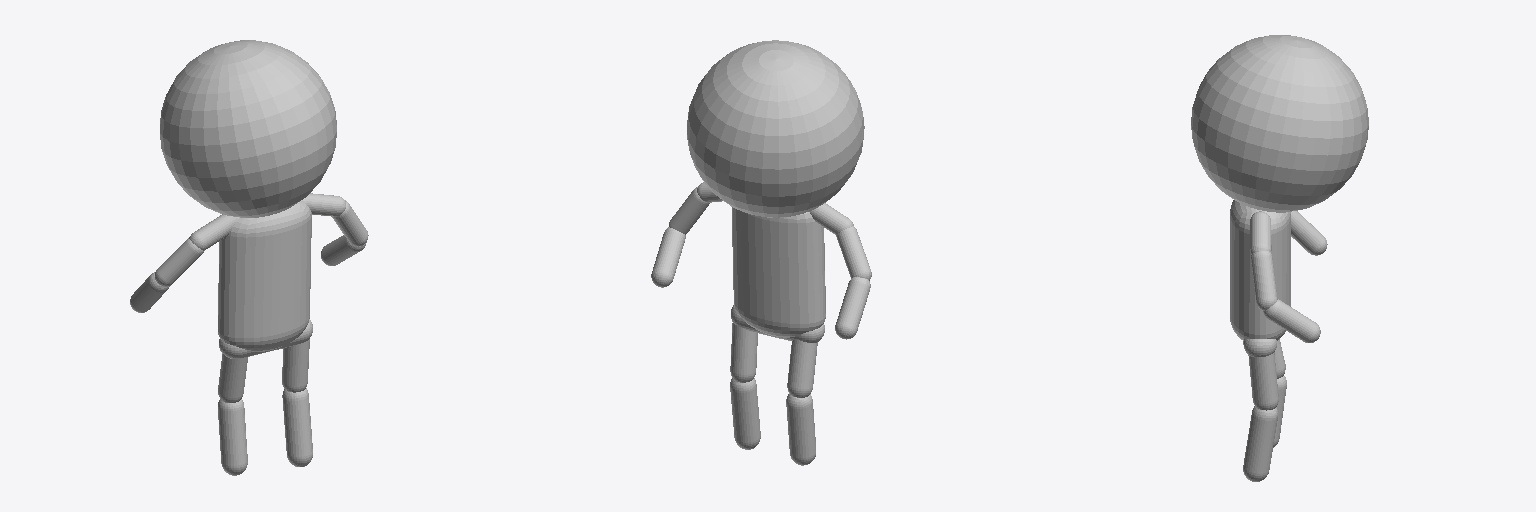
Rendered from Stickman_000058.obj.
3 renders of one model, left to right at view 1: azimuth 30°, elevation 25°; view 2: azimuth 150°, elevation 25°; view 3: azimuth 270°, elevation 25°, orthographic.
Parts seen in each view (by area): view 1: Head_Sphere.001, Body_Roundcube.002, LowerLegLeft_Roundcube.013, LowerLegRight_Roundcube.011, UpperLegLeft_Roundcube.012, UpperLegRight_Roundcube.010, UpperArmRight_Roundcube.015, ShoulderRight_Roundcube.014, UpperArmLeft_Roundcube.018, LowerArmRight_Roundcube.016, ShoulderLeft_Roundcube.017, LowerArmLeft_Roundcube.019 (+1 smaller); view 2: Head_Sphere.001, Body_Roundcube.002, LowerLegRight_Roundcube.011, LowerLegLeft_Roundcube.013, UpperLegRight_Roundcube.010, LowerArmRight_Roundcube.016, UpperLegLeft_Roundcube.012, LowerArmLeft_Roundcube.019, UpperArmRight_Roundcube.015, UpperArmLeft_Roundcube.018, ShoulderRight_Roundcube.014, Hip_Roundcube.005; view 3: Head_Sphere.001, Body_Roundcube.002, LowerLegLeft_Roundcube.013, UpperLegLeft_Roundcube.012, LowerArmLeft_Roundcube.019, UpperArmLeft_Roundcube.018, LowerArmRight_Roundcube.016, ShoulderLeft_Roundcube.017, Hip_Roundcube.005.
Boxes of the visible parts, x1=… form: Head_Sphere.001: x1=160, y1=40, x2=336, y2=217; Body_Roundcube.002: x1=218, y1=201, x2=311, y2=351; LowerLegLeft_Roundcube.013: x1=282, y1=388, x2=312, y2=466; LowerLegRight_Roundcube.011: x1=218, y1=399, x2=247, y2=475; UpperLegLeft_Roundcube.012: x1=282, y1=339, x2=309, y2=392; UpperLegRight_Roundcube.010: x1=218, y1=354, x2=247, y2=402; UpperArmRight_Roundcube.015: x1=155, y1=238, x2=203, y2=286; ShoulderRight_Roundcube.014: x1=189, y1=214, x2=238, y2=250; UpperArmLeft_Roundcube.018: x1=332, y1=200, x2=368, y2=246; LowerArmRight_Roundcube.016: x1=130, y1=272, x2=169, y2=312; ShoulderLeft_Roundcube.017: x1=301, y1=193, x2=345, y2=216; LowerArmLeft_Roundcube.019: x1=321, y1=235, x2=366, y2=265; Head_Sphere.001: x1=687, y1=40, x2=864, y2=217; Body_Roundcube.002: x1=732, y1=207, x2=825, y2=337; LowerLegRight_Roundcube.011: x1=786, y1=394, x2=815, y2=465; LowerLegLeft_Roundcube.013: x1=730, y1=378, x2=760, y2=449; UpperLegRight_Roundcube.010: x1=787, y1=340, x2=817, y2=397; LowerArmRight_Roundcube.016: x1=835, y1=277, x2=870, y2=339; UpperLegLeft_Roundcube.012: x1=730, y1=323, x2=757, y2=382; LowerArmLeft_Roundcube.019: x1=651, y1=227, x2=685, y2=287; UpperArmRight_Roundcube.015: x1=836, y1=226, x2=871, y2=280; UpperArmLeft_Roundcube.018: x1=669, y1=187, x2=709, y2=234; ShoulderRight_Roundcube.014: x1=809, y1=203, x2=853, y2=234; Hip_Roundcube.005: x1=731, y1=305, x2=824, y2=342; Head_Sphere.001: x1=1191, y1=35, x2=1368, y2=212; Body_Roundcube.002: x1=1230, y1=200, x2=1290, y2=340; LowerLegLeft_Roundcube.013: x1=1243, y1=406, x2=1277, y2=481; UpperLegLeft_Roundcube.012: x1=1248, y1=352, x2=1278, y2=410; LowerArmLeft_Roundcube.019: x1=1263, y1=299, x2=1320, y2=342; UpperArmLeft_Roundcube.018: x1=1251, y1=251, x2=1277, y2=310; LowerArmRight_Roundcube.016: x1=1291, y1=211, x2=1327, y2=255; ShoulderLeft_Roundcube.017: x1=1250, y1=211, x2=1271, y2=254; Hip_Roundcube.005: x1=1243, y1=339, x2=1276, y2=356.
Bounding box in the file's own units: 6.55 × 12.33 × 4.76.